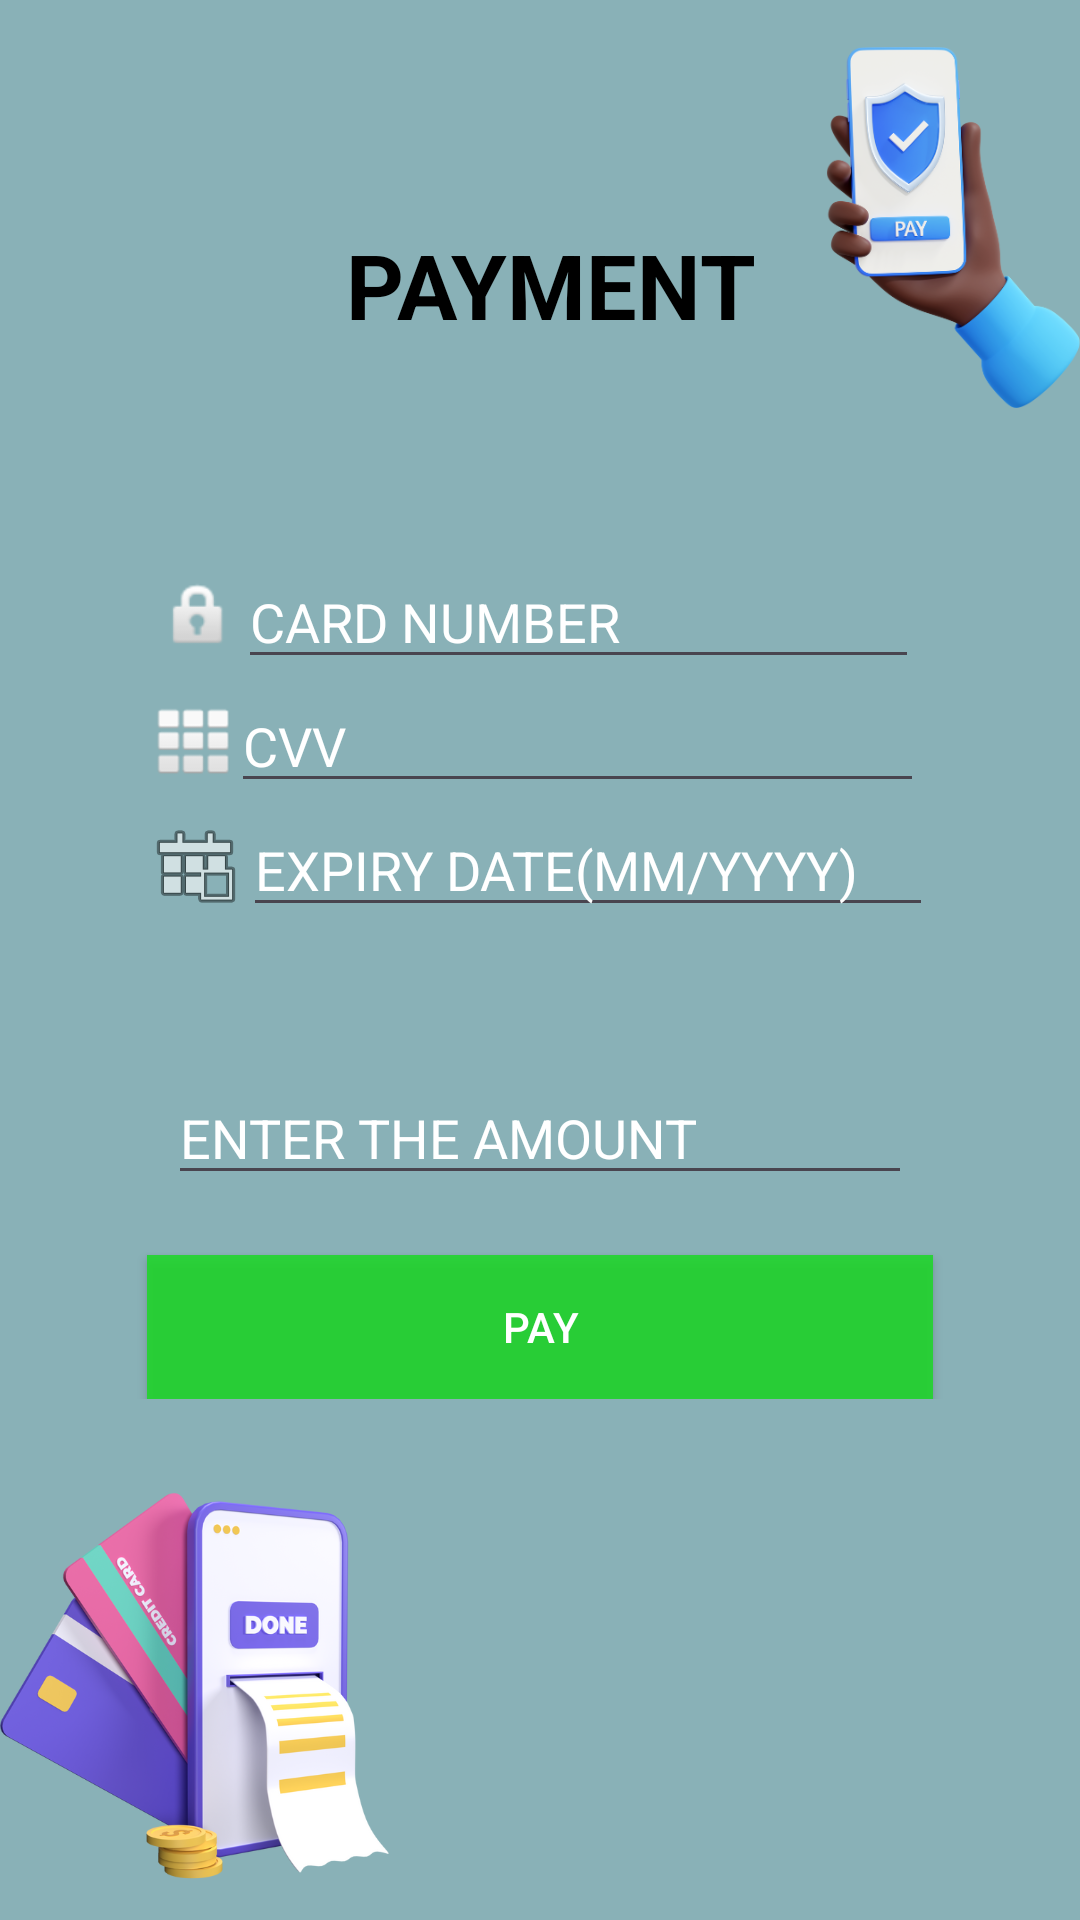

Locate icon controls on the screen. Image size 1080×1920, boxes as (x1, y1, x2, y2).
dialer: (158, 709, 229, 773)
lock idle: (173, 585, 222, 643)
today: (157, 830, 235, 903)
